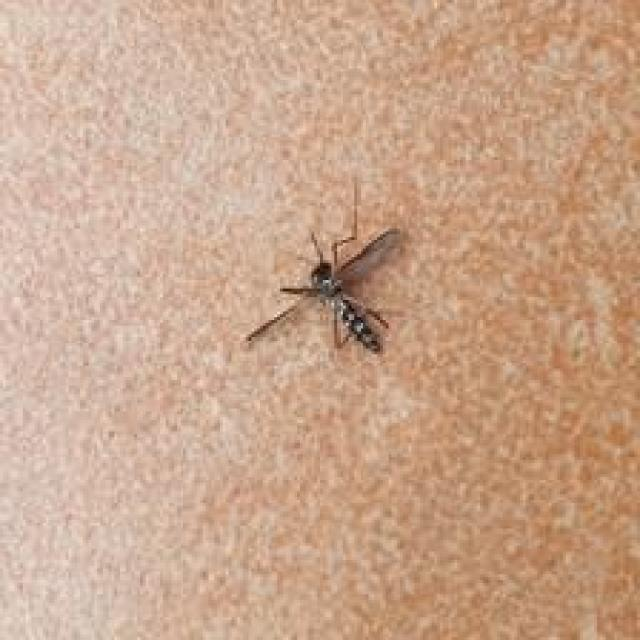Aedes albopictus: (243, 176, 408, 356)
